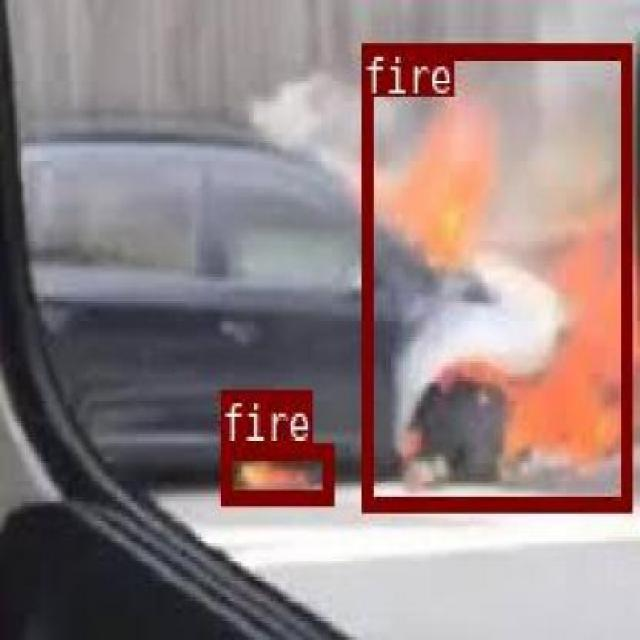CIV_Plane: (361, 41, 630, 507)
Fire: (361, 41, 630, 507), (113, 63, 274, 472)
